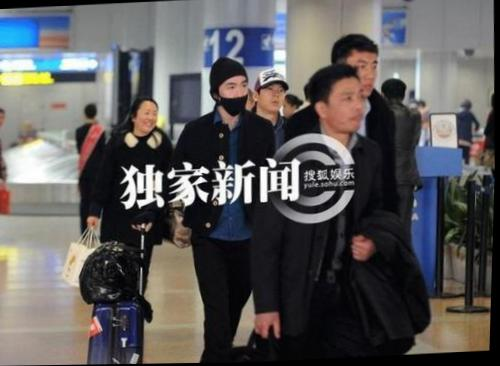NONE: (331, 92, 368, 134), (350, 60, 382, 96), (262, 83, 288, 111), (138, 107, 160, 131)
WRONG: (220, 78, 252, 113)
